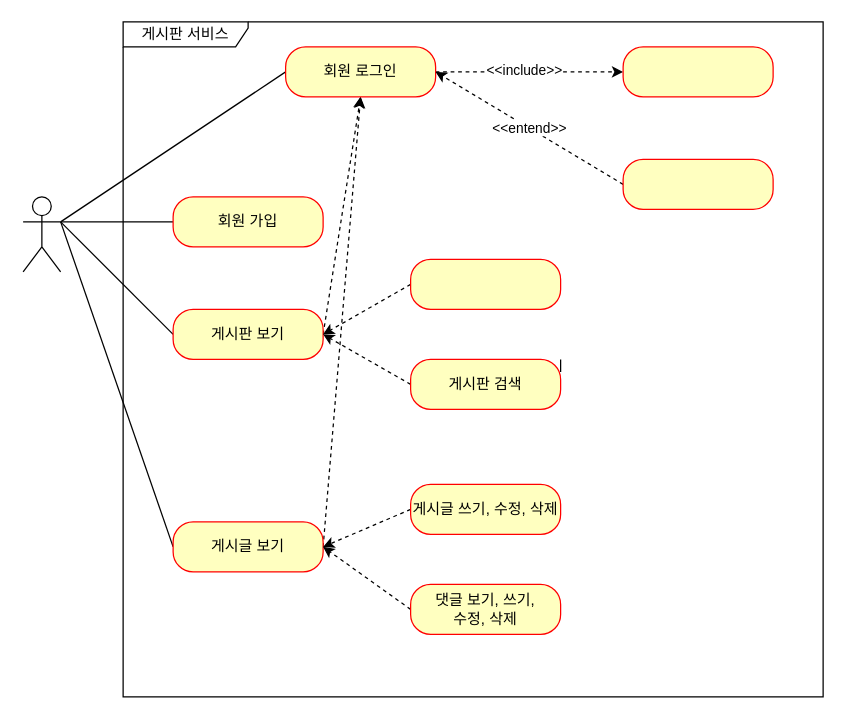
Some shapes in this 845 by 719 pixel diagram are drawn without their labels. Here are the shapes that lost their labels. From the top down, the centre of each, then its label:
At (x=697, y=71): "인증".
At (x=697, y=183): "로그인 실패".
At (x=41, y=234): "이용자".
At (x=485, y=283): "게시판 정렬".
